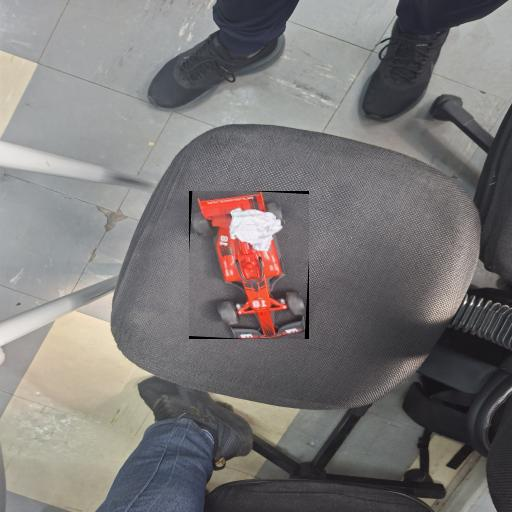carro: (189, 191, 307, 338)
